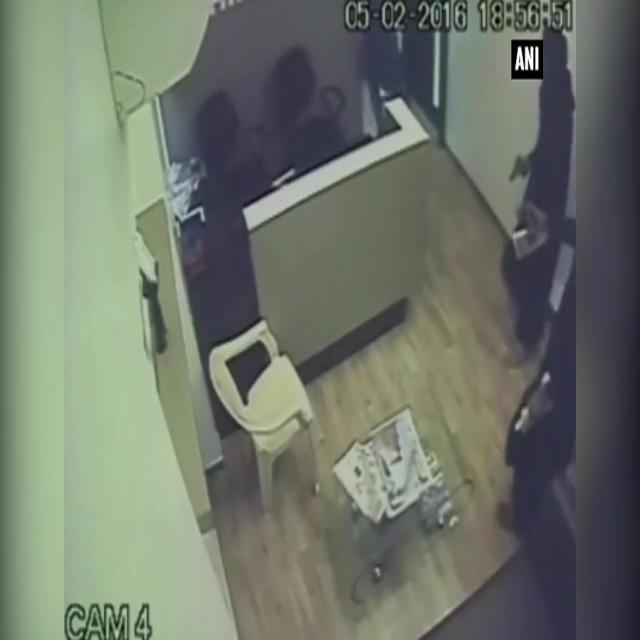Weapon: (508, 142, 538, 198), (514, 205, 552, 239)
